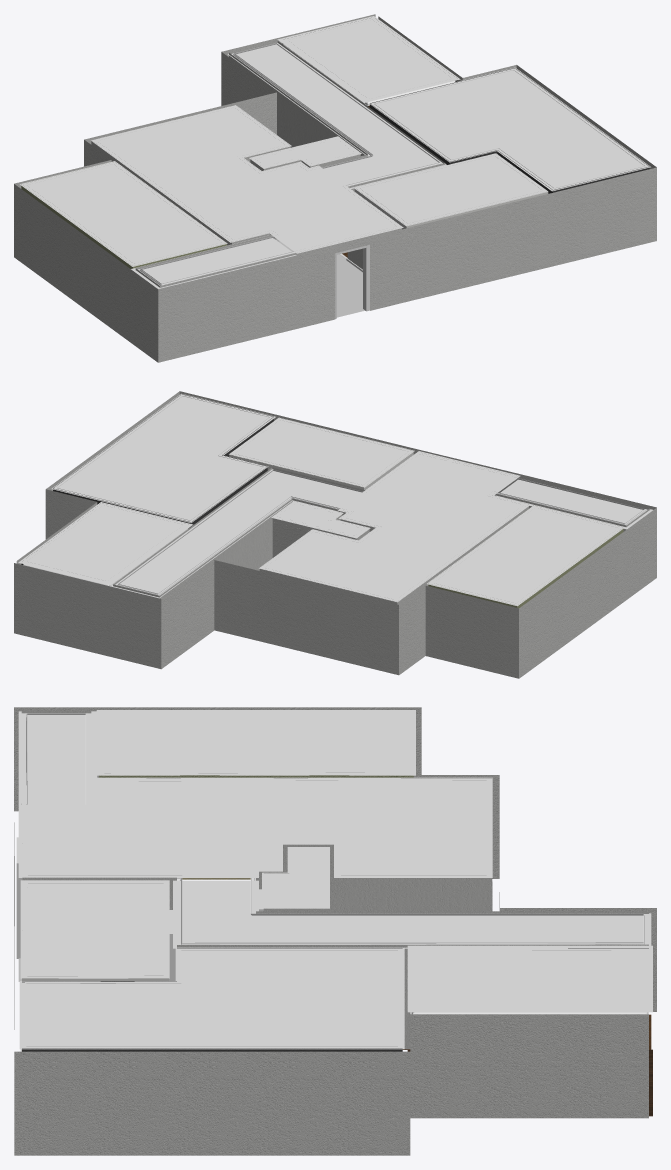
File: House.v05.fbx
The picture shows the model from 3 angles, top to bottom: view 1: azimuth 30°, elevation 25°; view 2: azimuth 150°, elevation 25°; view 3: azimuth 270°, elevation 25°; orthographic projection. The views are drawn at different scales.
Visible parts, largest first — view 1: Walls_Outside, Ceiling_Living Room, Ceiling_Garage, Ceiling_Kitchen, Ceiling_Hall, Ceiling_Office, Ceiling_Bathroom, Walls_Living_Room, Ceiling_Stairs, Cornice_Living Room, Ceiling_Closet, Walls_Garage (+5 smaller); view 2: Walls_Outside, Ceiling_Living Room, Ceiling_Garage, Ceiling_Kitchen, Ceiling_Hall, Ceiling_Office, Ceiling_Bathroom, Walls_Living_Room, Ceiling_Stairs, Cornice_Living Room, Ceiling_Closet, Walls_Garage (+4 smaller); view 3: Walls_Outside, Ceiling_Living Room, Ceiling_Garage, Ceiling_Kitchen, Ceiling_Hall, Ceiling_Office, Ceiling_Bathroom, Walls_Living_Room, Ceiling_Stairs, Cornice_Living Room, Ceiling_Closet, Walls_Garage (+3 smaller).
Part boxes in pixels (x1,y1,x2,y2): Walls_Outside: (14,14,656,362); Ceiling_Living Room: (91,105,403,253); Ceiling_Garage: (369,67,650,191); Ceiling_Kitchen: (20,161,227,266); Ceiling_Hall: (227,42,446,188); Ceiling_Office: (277,16,460,102); Ceiling_Bathroom: (354,153,548,226); Walls_Living_Room: (91,41,445,287); Ceiling_Stairs: (131,235,296,288); Cornice_Living Room: (139,43,440,285); Ceiling_Closet: (249,136,361,168); Walls_Garage: (370,68,649,193); Walls_Outside: (14,391,656,678); Ceiling_Living Room: (259,451,530,602); Ceiling_Garage: (51,393,275,522); Ceiling_Kitchen: (427,505,625,606); Ceiling_Hall: (111,469,361,598); Ceiling_Office: (18,502,193,585); Ceiling_Bathroom: (229,417,414,487); Walls_Living_Room: (113,467,649,604); Ceiling_Stairs: (496,479,652,529); Cornice_Living Room: (117,469,645,595); Ceiling_Closet: (271,501,370,538); Walls_Garage: (53,394,273,528); Walls_Outside: (14,707,656,1155); Ceiling_Living Room: (18,777,492,877); Ceiling_Garage: (19,948,404,1049); Ceiling_Kitchen: (96,710,415,775); Ceiling_Hall: (173,880,651,948); Ceiling_Office: (407,945,652,1012); Ceiling_Bathroom: (20,880,169,978); Walls_Living_Room: (21,710,648,1049); Ceiling_Stairs: (18,711,97,804); Cornice_Living Room: (26,713,644,944); Ceiling_Closet: (262,847,329,908); Walls_Garage: (22,948,402,1051).
Size of the model in its own units: 2664 by 379 by 2104.
